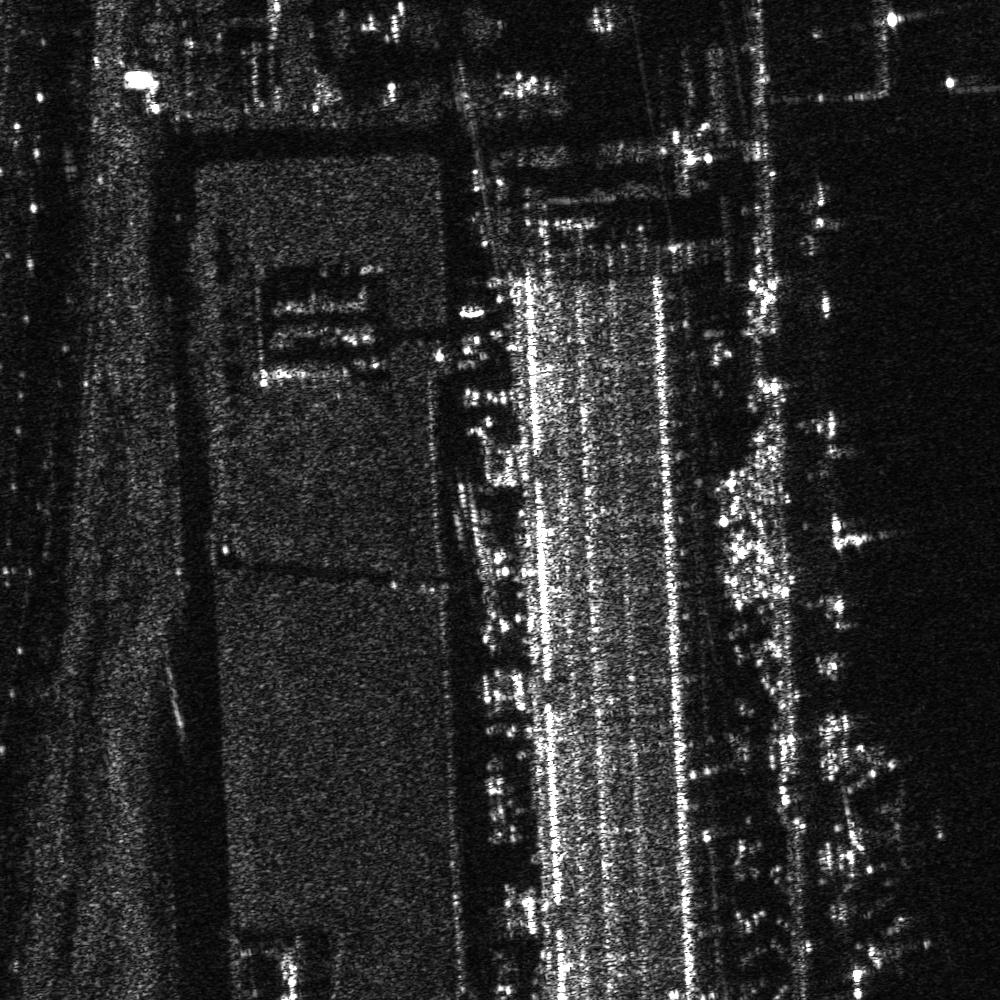A220: (845, 786, 952, 873)
other: (847, 905, 939, 973)
